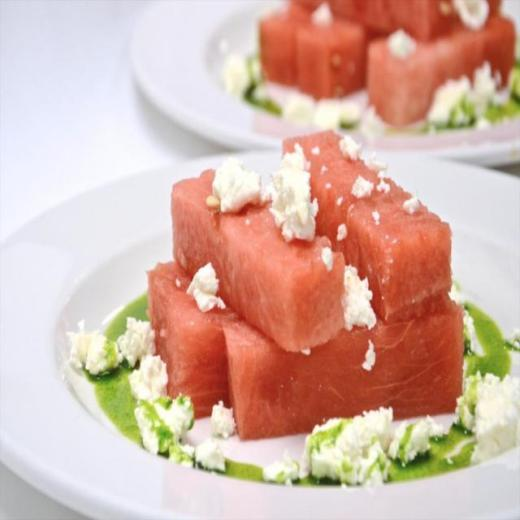Cherry: (146, 134, 463, 440), (261, 0, 516, 128)
